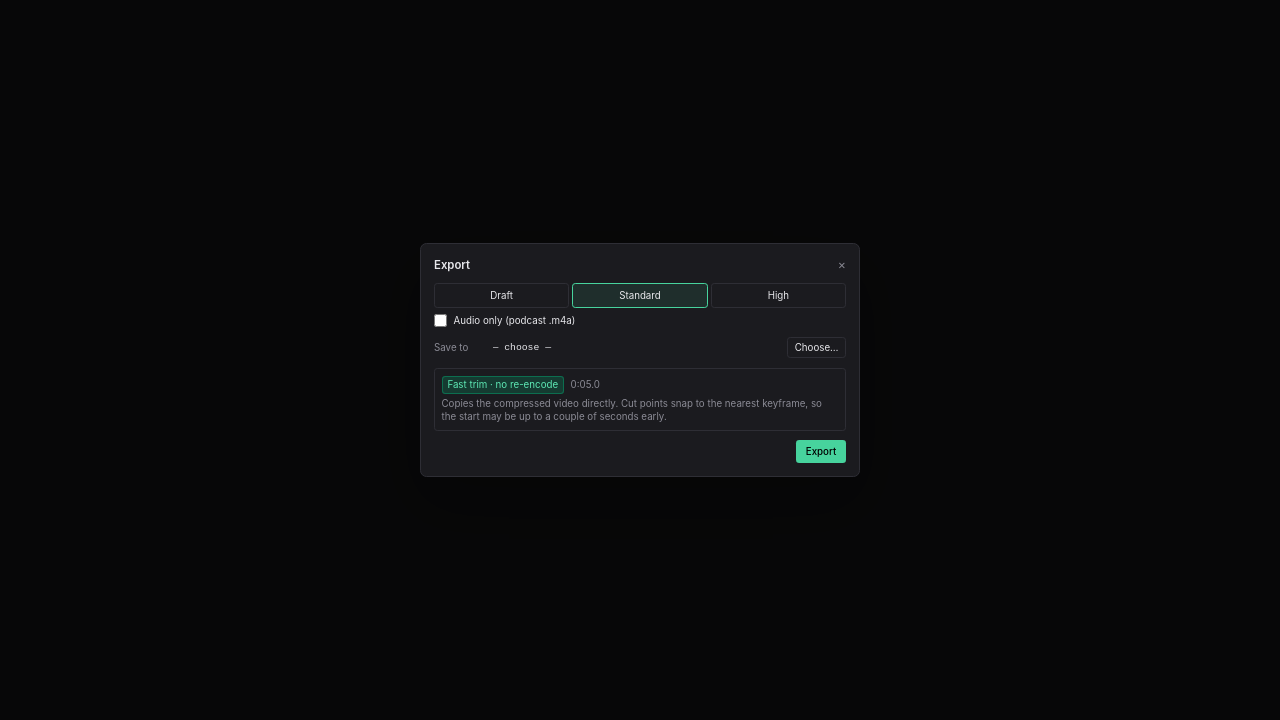
Scenario: ExportDialog › audio-only hides quality, changes the badge and the picker extension
Click the checkbox labelled "Audio only (podcast .m4a)": (440, 321) [434, 314, 447, 327]
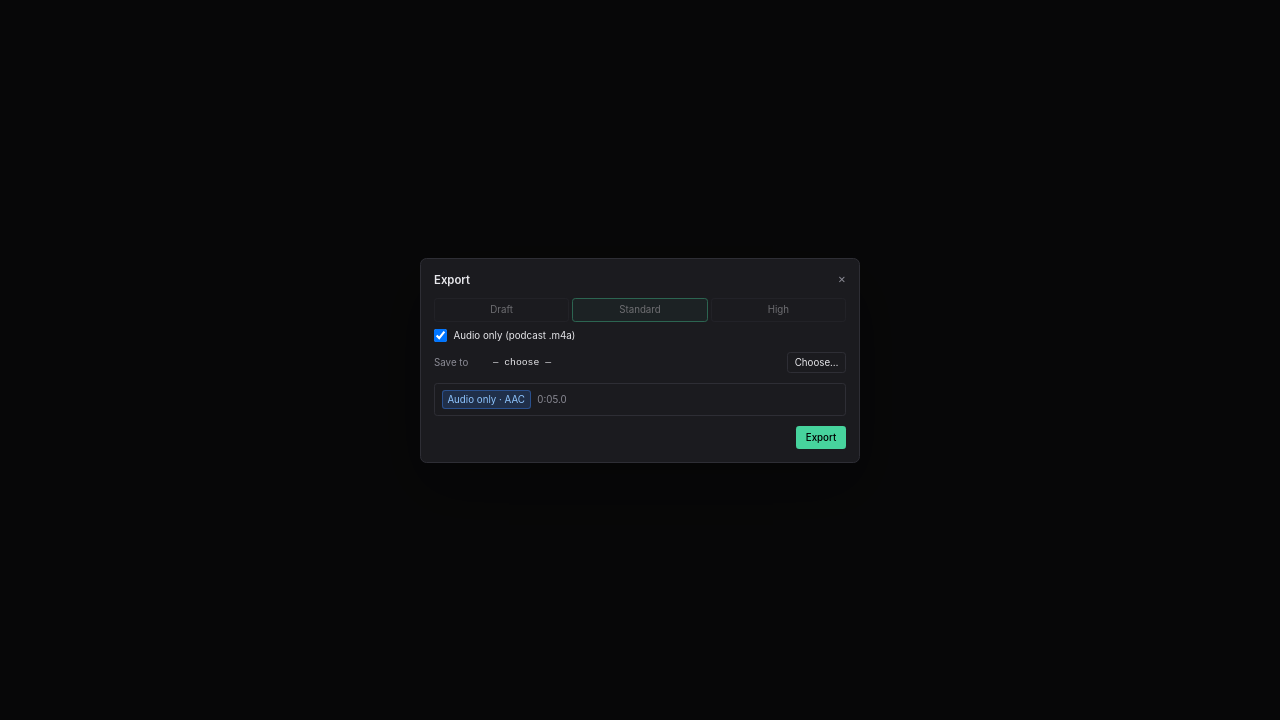
expect the text "Audio only · AAC" is shown: met, box [442, 390, 531, 409]
expect the button "High" is disabled: met, box [711, 298, 846, 322]
Click the button "Choose…": (817, 362) [787, 352, 846, 373]
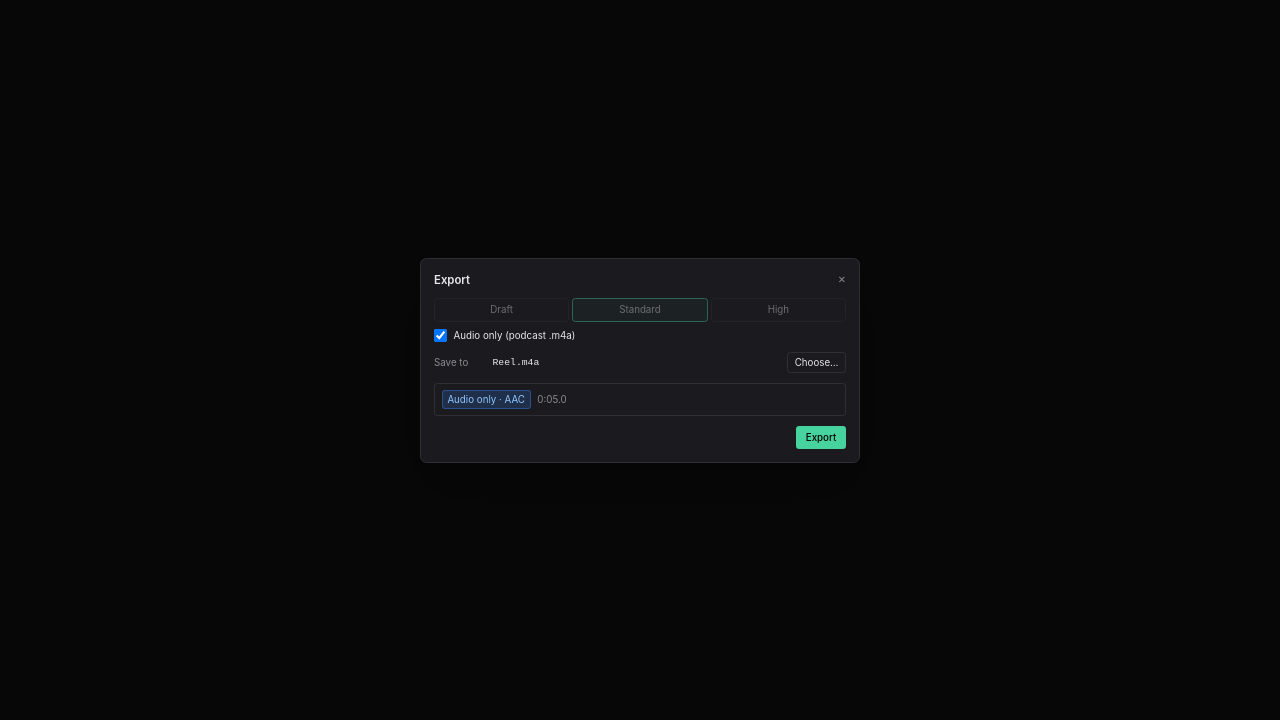
expect the text "Reel.m4a" is shown: met, box [492, 357, 539, 368]
